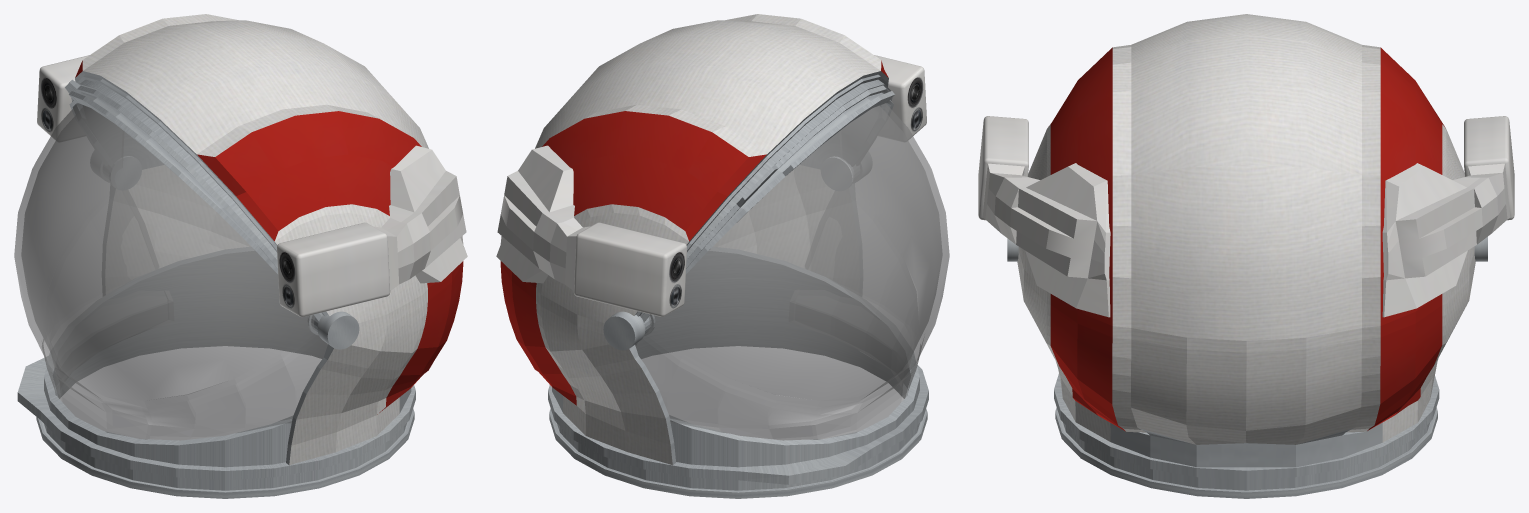
File: HelmetAsset1.FBX
3 views of the same model, side by side, from view 1: azimuth 30°, elevation 25°; view 2: azimuth 150°, elevation 25°; view 3: azimuth 270°, elevation 25° (orthographic).
Parts seen in each view (by area): view 1: Sphere004, Sphere006, Cylinder001, ChamferBox002, Sphere003, Sphere005, ChamferBox001, Cylinder002, Cylinder003; view 2: Sphere004, Sphere006, Cylinder001, ChamferBox001, Sphere003, Sphere005, ChamferBox002, Cylinder003, Cylinder002; view 3: Sphere004, ChamferBox002, ChamferBox001, Cylinder001.
Part boxes in pixels (x1,y1,x2,y2): Sphere004: (75,14,463,465); Sphere006: (14,103,327,440); Cylinder001: (17,247,415,498); ChamferBox002: (277,145,467,316); Sphere003: (69,91,277,273); Sphere005: (65,79,322,321); ChamferBox001: (37,55,89,139); Cylinder002: (307,311,359,349); Cylinder003: (109,156,141,190); Sphere004: (500,14,888,464); Sphere006: (635,103,949,440); Cylinder001: (548,247,928,498); ChamferBox001: (496,145,686,316); Sphere003: (686,91,894,273); Sphere005: (640,79,892,322); ChamferBox002: (874,55,926,139); Cylinder003: (603,311,655,350); Cylinder002: (821,156,854,190); Sphere004: (1017,14,1475,467); ChamferBox002: (978,116,1110,317); ChamferBox001: (1382,116,1514,317); Cylinder001: (1054,374,1439,498).
Size of the model in its own units: 80.07 by 76.04 by 96.35.
Materials: 4 (3 with a texture image).
